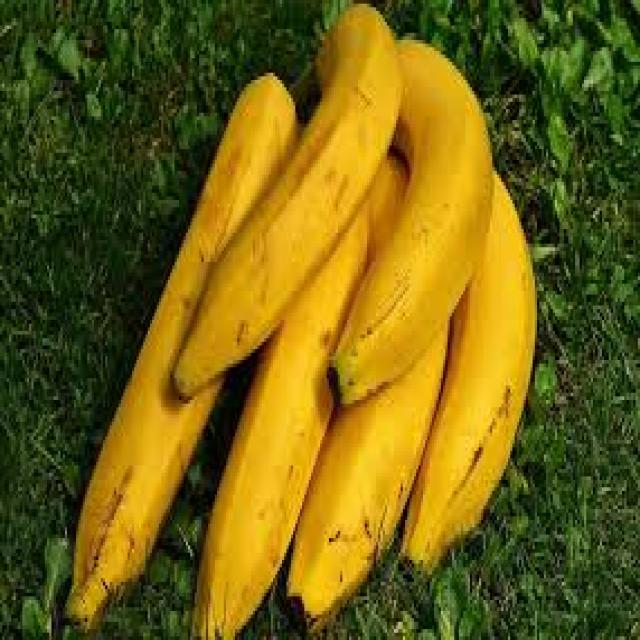Banana: (67, 75, 295, 627), (174, 6, 403, 397), (193, 201, 367, 637), (333, 44, 493, 403), (403, 175, 535, 568), (287, 323, 447, 619)
